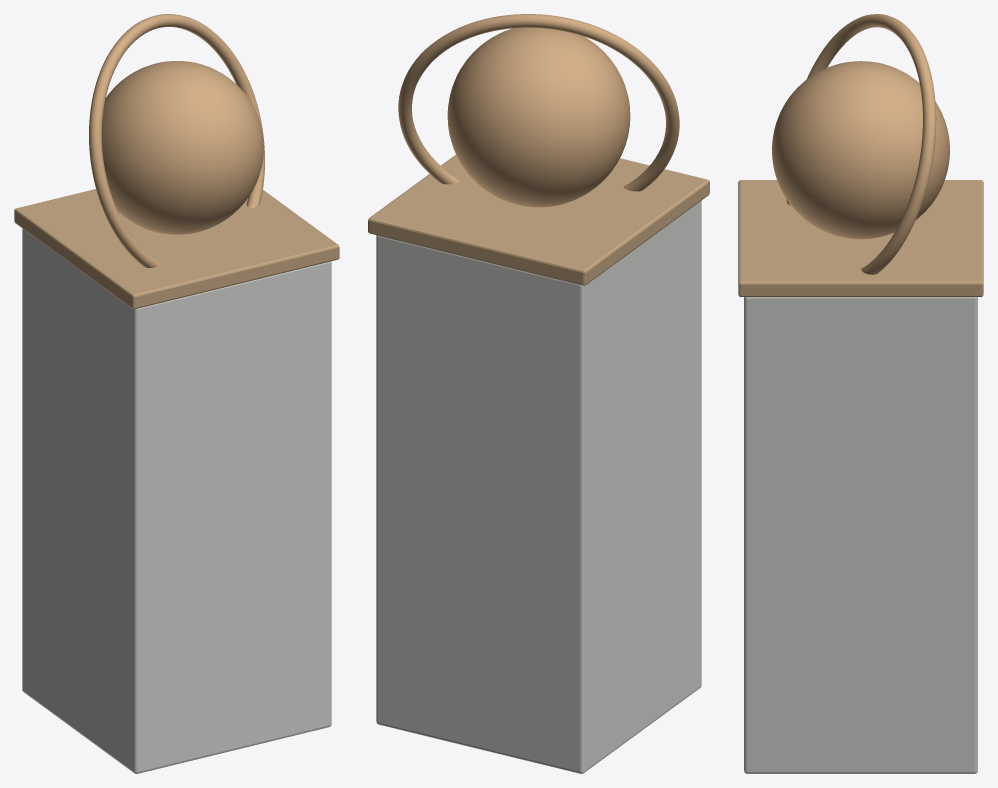
File: sculpture.glb
The picture shows the model from 3 angles, left to right: view 1: azimuth 30°, elevation 25°; view 2: azimuth 150°, elevation 25°; view 3: azimuth 270°, elevation 25°; orthographic projection. The views are drawn at different scales.
Parts seen in each view (by area): view 1: Plinth, Sphere, Top, Ring; view 2: Plinth, Sphere, Top, Ring; view 3: Plinth, Sphere, Top, Ring.
Part boxes in pixels (left/top/right/bottom): Plinth: left=22, top=228, right=331, bottom=773; Sphere: left=102, top=61, right=263, bottom=234; Top: left=14, top=189, right=339, bottom=309; Ring: left=89, top=14, right=264, bottom=267; Plinth: left=376, top=200, right=701, bottom=773; Sphere: left=447, top=27, right=630, bottom=207; Top: left=368, top=155, right=709, bottom=285; Ring: left=398, top=14, right=679, bottom=191; Plinth: left=744, top=297, right=977, bottom=773; Sphere: left=772, top=61, right=949, bottom=239; Top: left=738, top=180, right=983, bottom=296; Ring: left=786, top=14, right=936, bottom=274.
Bounding box in the file's own units: 0.4552 × 1.37 × 0.44.
